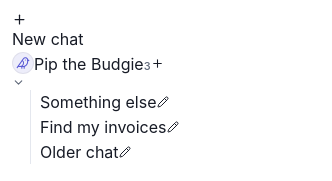
renames a chat from the sidebar
The width and height of the screenshot is (332, 181).
Click the button named "Rename Find my invoices" at (172, 127), box [166,121,178,133]
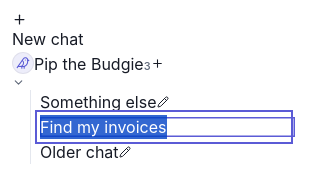
Replace the text in the field named "Conversation name" with "Tax season" at (164, 127), box [40,115,288,139]
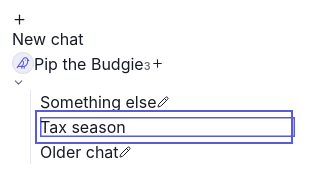
Press Enter in the field named "Conversation name", box [40,115,288,139]
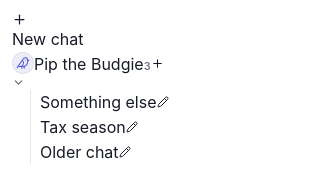
Expected: the text with class "chat-title" reads "Tax season", [40,117,126,137]
